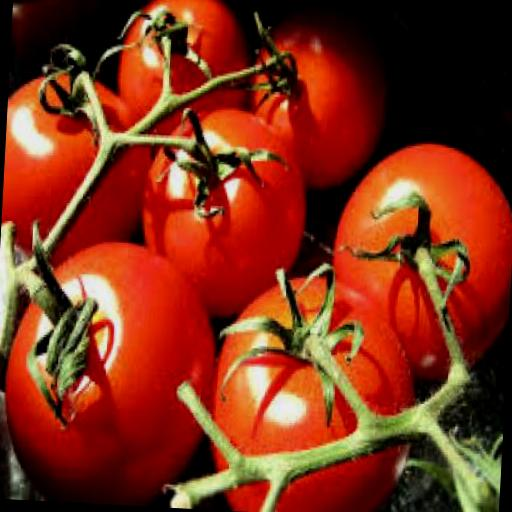biodegradable: (0, 239, 218, 507), (204, 255, 419, 512), (323, 131, 512, 384), (138, 100, 308, 314), (0, 55, 154, 264), (243, 12, 393, 196), (113, 0, 255, 135)
